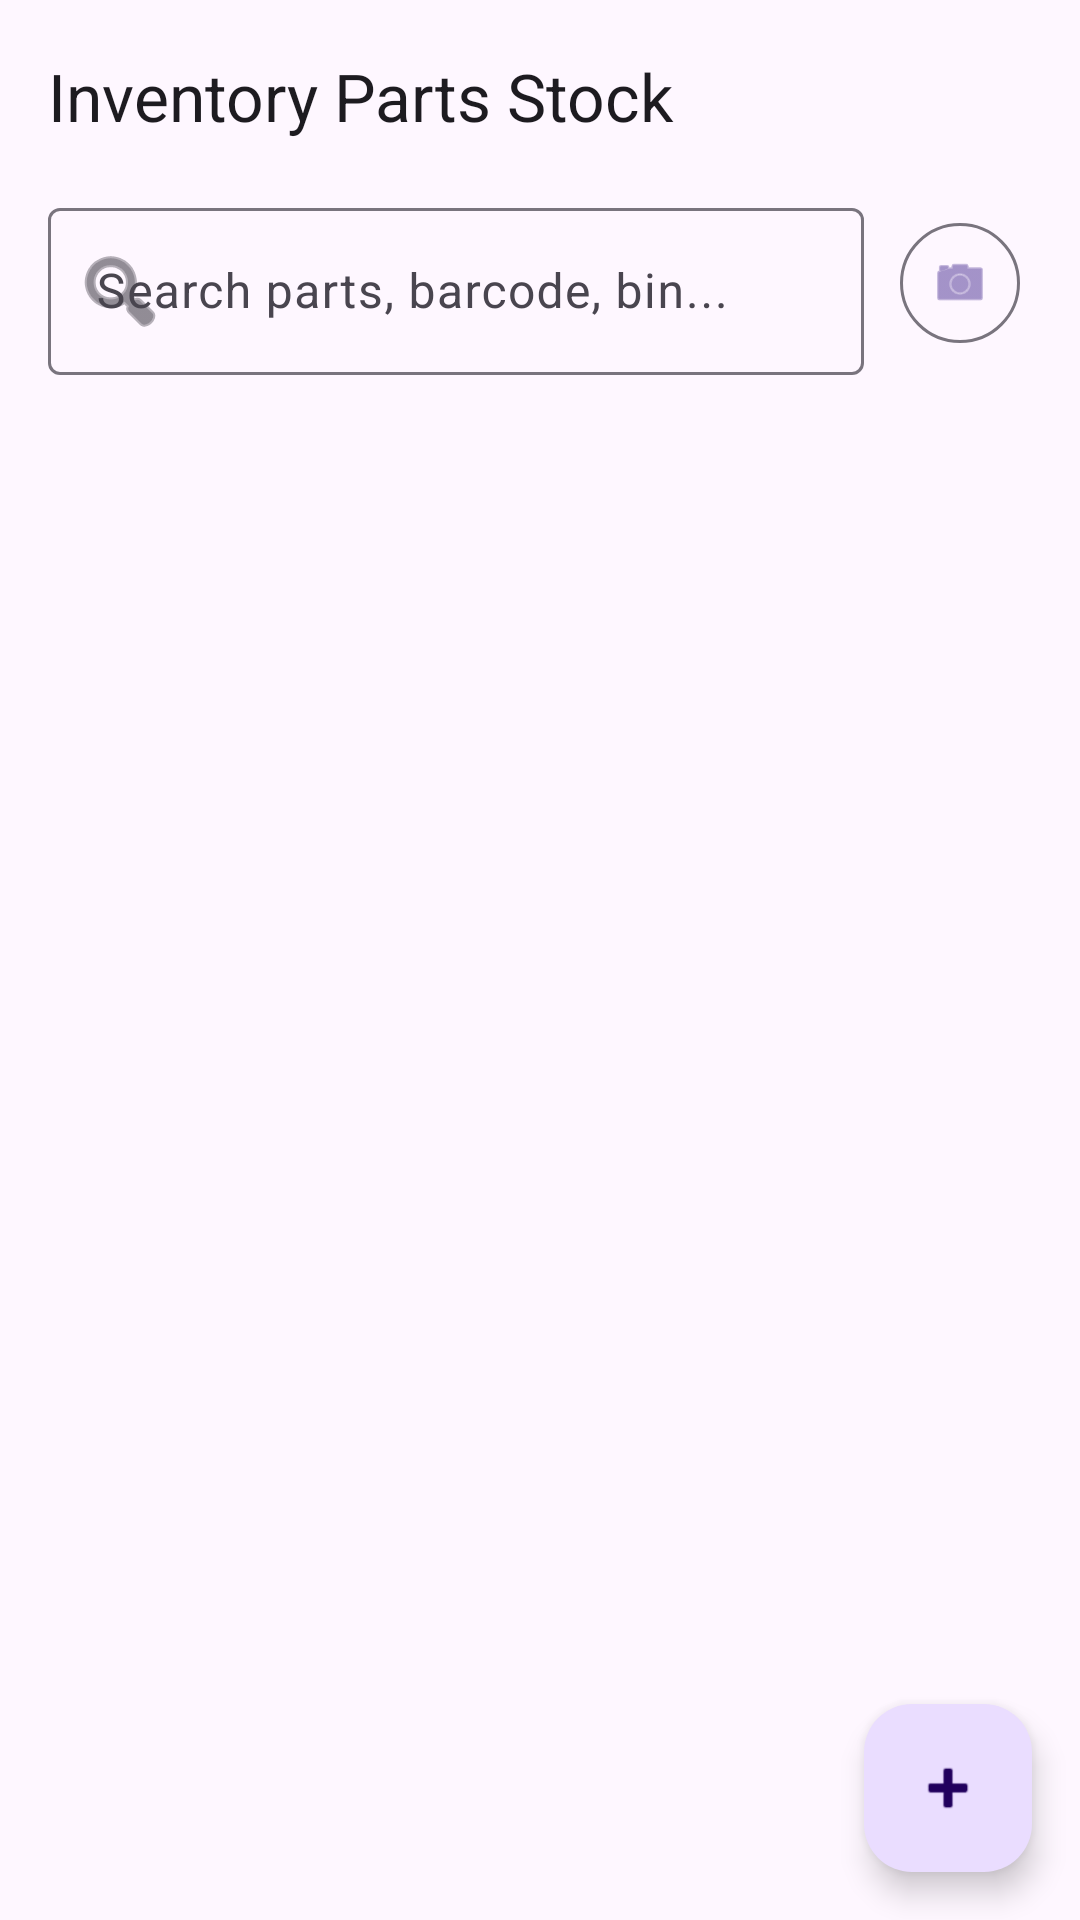

Icon bounding boxes for this 1080px×1920px phone screenshot, format (x1,y1,x2,y2):
Add New Part: (864,1704,1032,1872)
camera: (900,223,1020,343)
